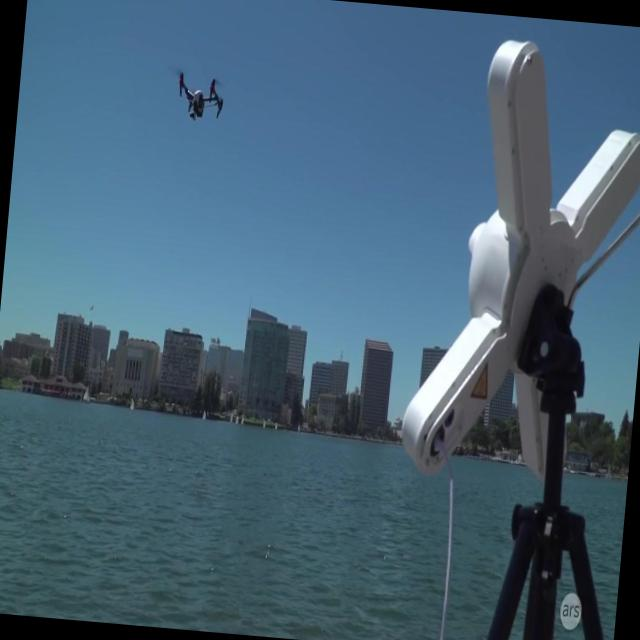drone: (172, 65, 228, 125)
